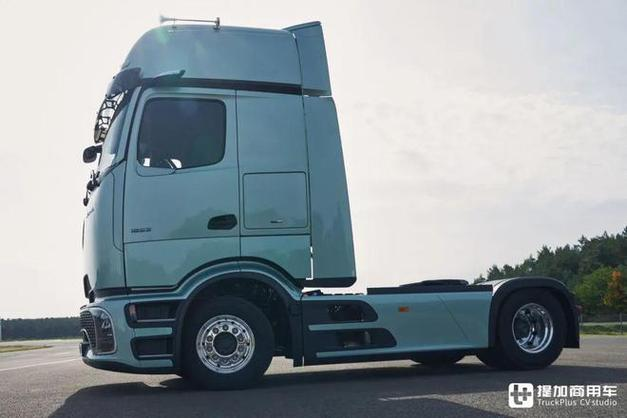卡车: (56, 9, 600, 379)
